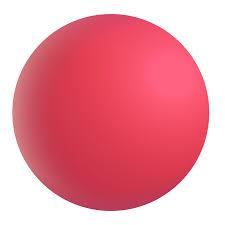red_circle: (8, 10, 211, 215)
